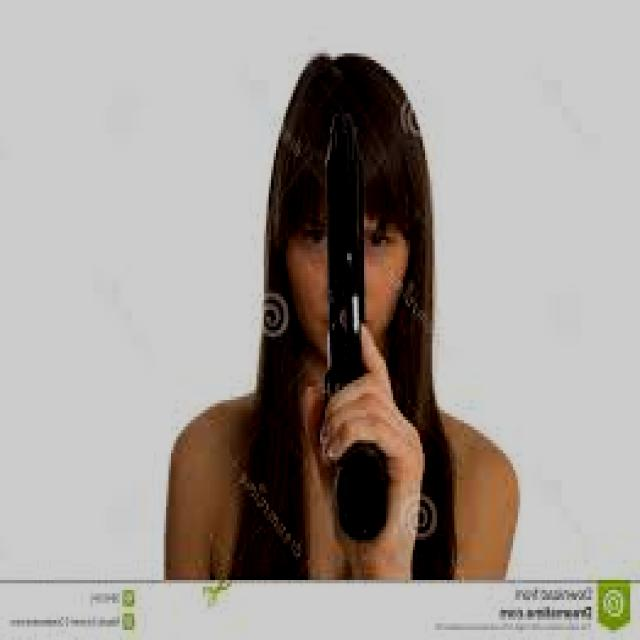pistol: (308, 96, 422, 546)
